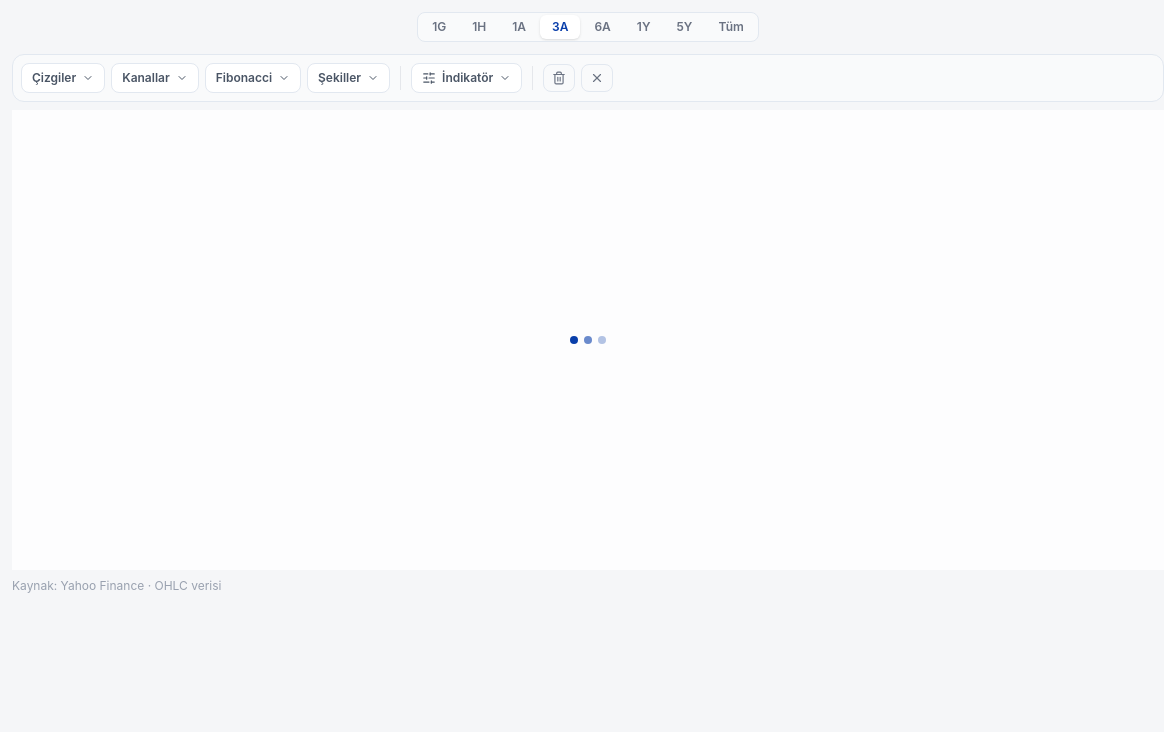
CandlestickChart — İndikatör menüsü › İndikatör butonuna tıklayınca MA + osilatör seçenekleri açılır
Click the button "İndikatör": [467, 78] box [411,63,522,93]
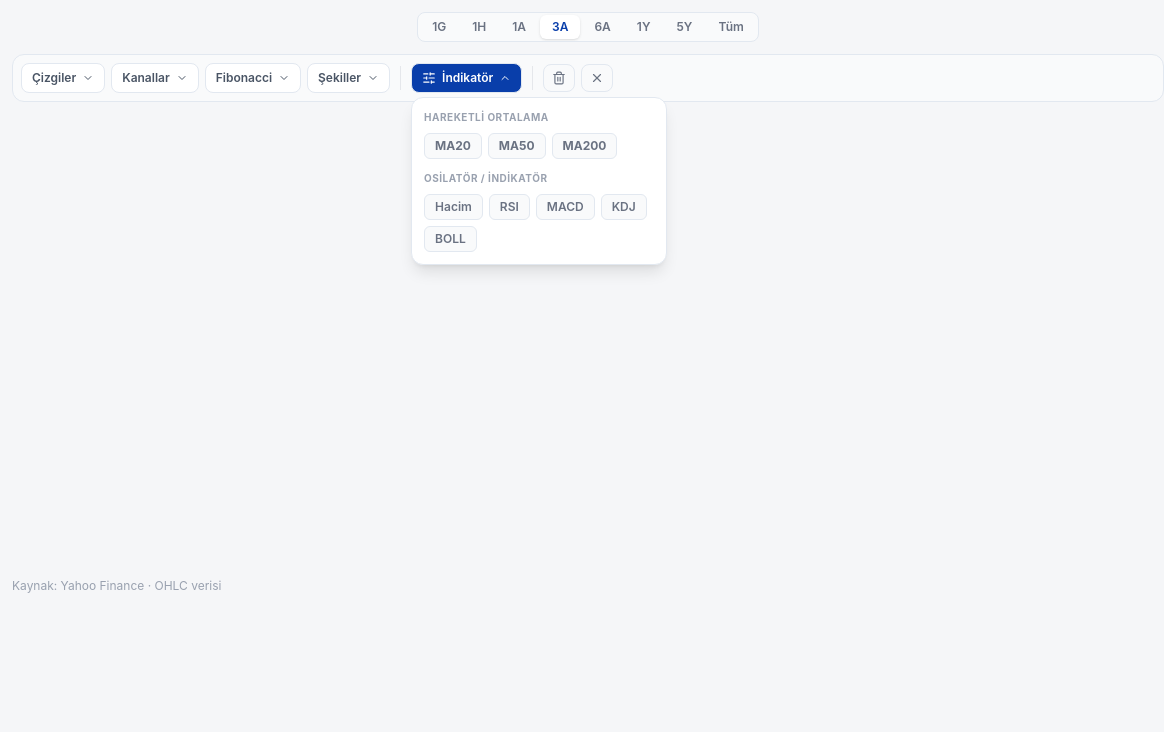
expect the button "MA20" is shown: met, box [424,133,482,159]
expect the button "MA50" is shown: met, box [488,133,546,159]
expect the button "MA200" is shown: met, box [552,133,618,159]
